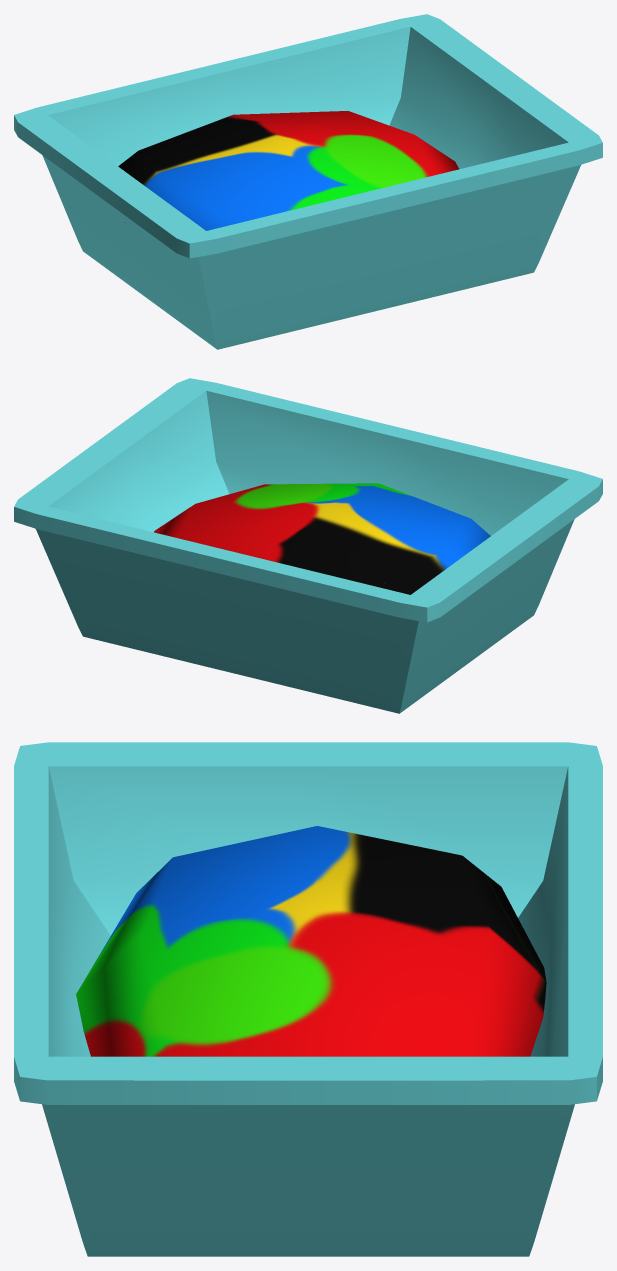
Rendered from тазик.fbx.
3 renders of one model, top to bottom at view 1: azimuth 30°, elevation 25°; view 2: azimuth 150°, elevation 25°; view 3: azimuth 270°, elevation 25°, orthographic. The views are drawn at different scales.
Parts seen in each view (by area): view 1: Cube.103, Cube.615; view 2: Cube.103, Cube.615; view 3: Cube.103, Cube.615.
Part boxes in pixels (x1,y1,x2,y2): Cube.103: (14, 14, 602, 349); Cube.615: (118, 111, 458, 230); Cube.103: (14, 378, 602, 713); Cube.615: (154, 483, 490, 594); Cube.103: (14, 742, 602, 1256); Cube.615: (76, 826, 546, 1056).
Bounding box in the file's own units: 94.89 × 28.93 × 69.85.
Materials: 2 (1 with a texture image).
